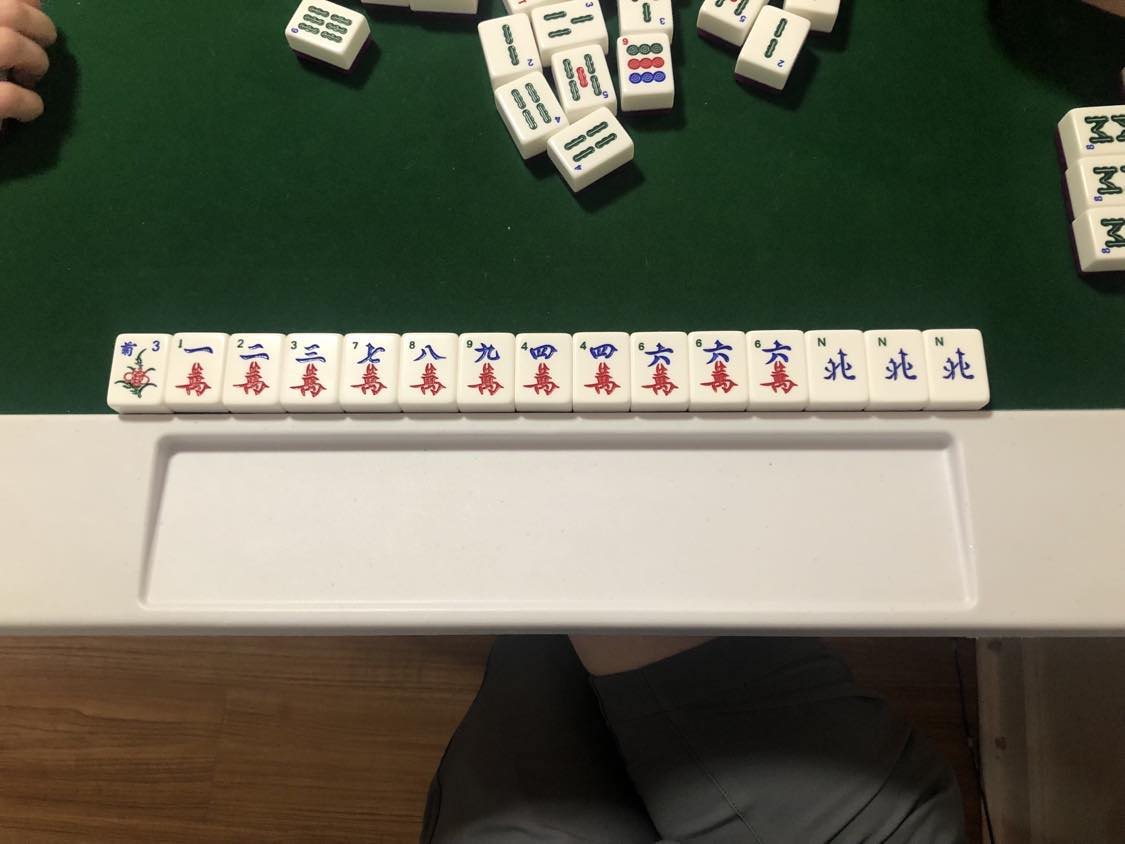character-eight: (401, 336, 454, 403)
character-four: (575, 334, 629, 402), (518, 334, 568, 400)
character-nine: (462, 335, 511, 402)
character-one: (171, 333, 221, 406)
character-seven: (346, 337, 393, 402)
character-six: (750, 332, 807, 401), (633, 334, 687, 401), (693, 334, 745, 400)
character-three: (284, 334, 335, 404)
character-two: (230, 334, 277, 403)
flower-blue_three: (113, 333, 165, 403)
honor-north_wind: (868, 332, 925, 400), (811, 334, 866, 399), (930, 333, 984, 398)
